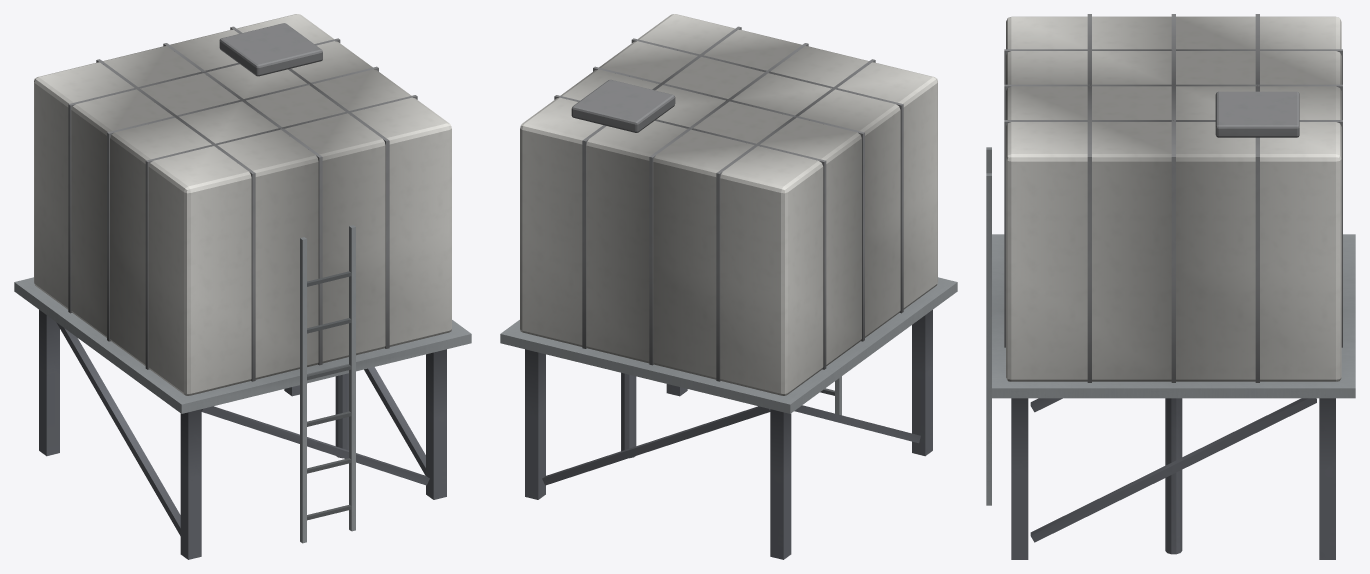
The model's file is roof_watertank.glb.
3 views of the same model, side by side, from view 1: azimuth 30°, elevation 25°; view 2: azimuth 150°, elevation 25°; view 3: azimuth 270°, elevation 25° (orthographic). The views are drawn at different scales.
Visible parts, largest first — view 1: tank, roof_watertank_paint_grey, roof_watertank_galvanised, roof_watertank_plastic_grey; view 2: tank, roof_watertank_paint_grey, roof_watertank_plastic_grey, roof_watertank_galvanised; view 3: tank, roof_watertank_galvanised, roof_watertank_plastic_grey, roof_watertank_paint_grey.
Part boxes in pixels (x1,y1,x2,y2): tank: [34, 14, 451, 395]; roof_watertank_paint_grey: [39, 310, 446, 559]; roof_watertank_galvanised: [14, 225, 471, 543]; roof_watertank_plastic_grey: [68, 23, 417, 381]; tank: [520, 14, 937, 395]; roof_watertank_paint_grey: [525, 310, 932, 559]; roof_watertank_plastic_grey: [554, 26, 903, 381]; roof_watertank_galvanised: [500, 277, 957, 415]; tank: [1006, 16, 1341, 381]; roof_watertank_galvanised: [986, 147, 1355, 505]; roof_watertank_plastic_grey: [1004, 14, 1342, 382]; roof_watertank_paint_grey: [1011, 398, 1335, 559].
Size of what is drawn, in the model's own units: 2.6 by 3.35 by 2.64.
Materials: 4 (4 with a texture image).
